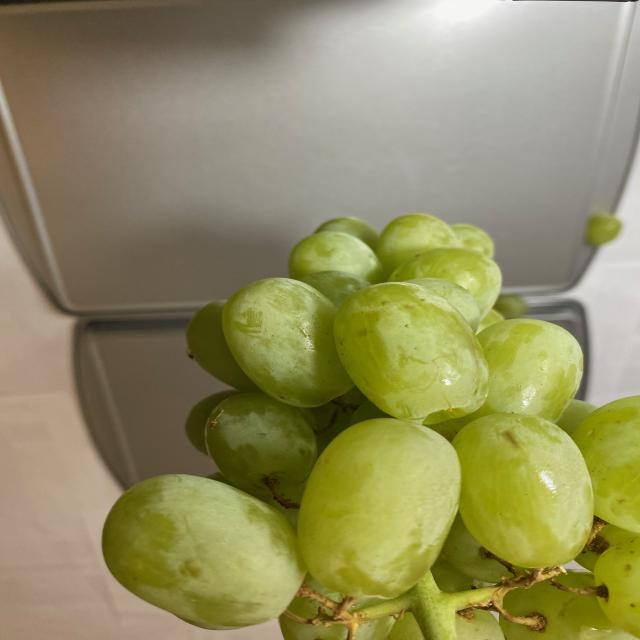grapes: (96, 208, 640, 636)
